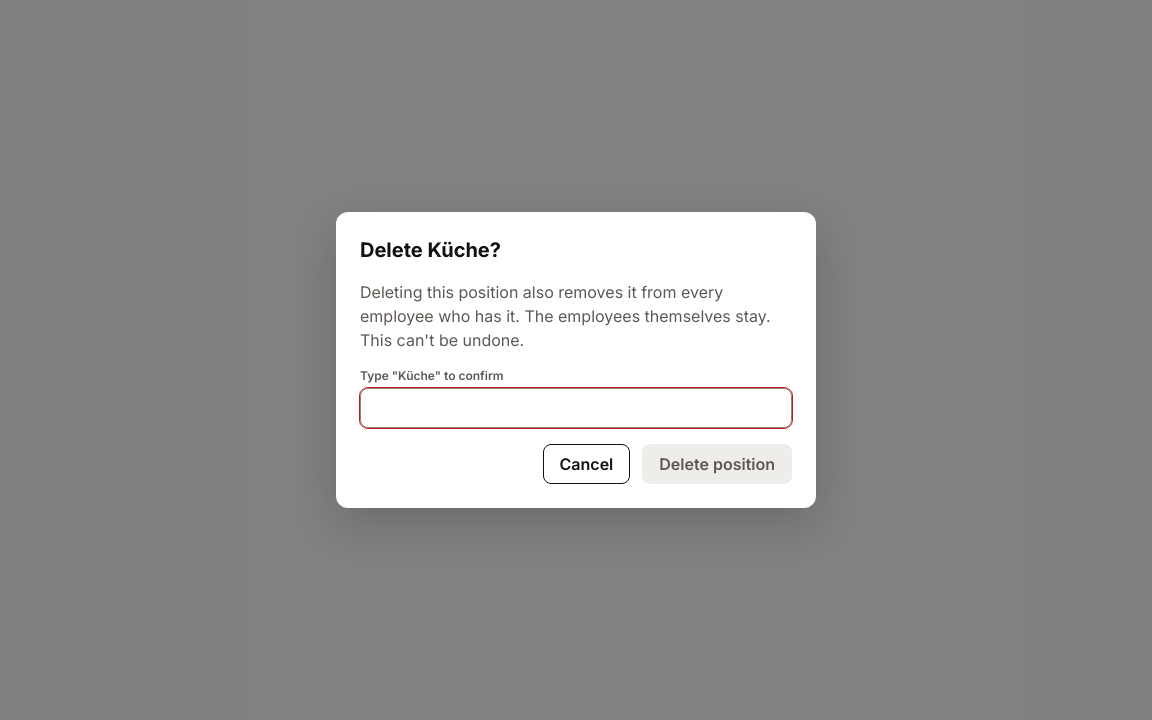
Scenario: DeletePosition › deletes the position once its name is typed, then closes
This screenshot has width=1152, height=720.
Later steps or results of the test are not shown.
Type "Küche" into the field labelled "Type \"Küche\" to confirm". click: (576, 408)
box: [360, 388, 792, 428]
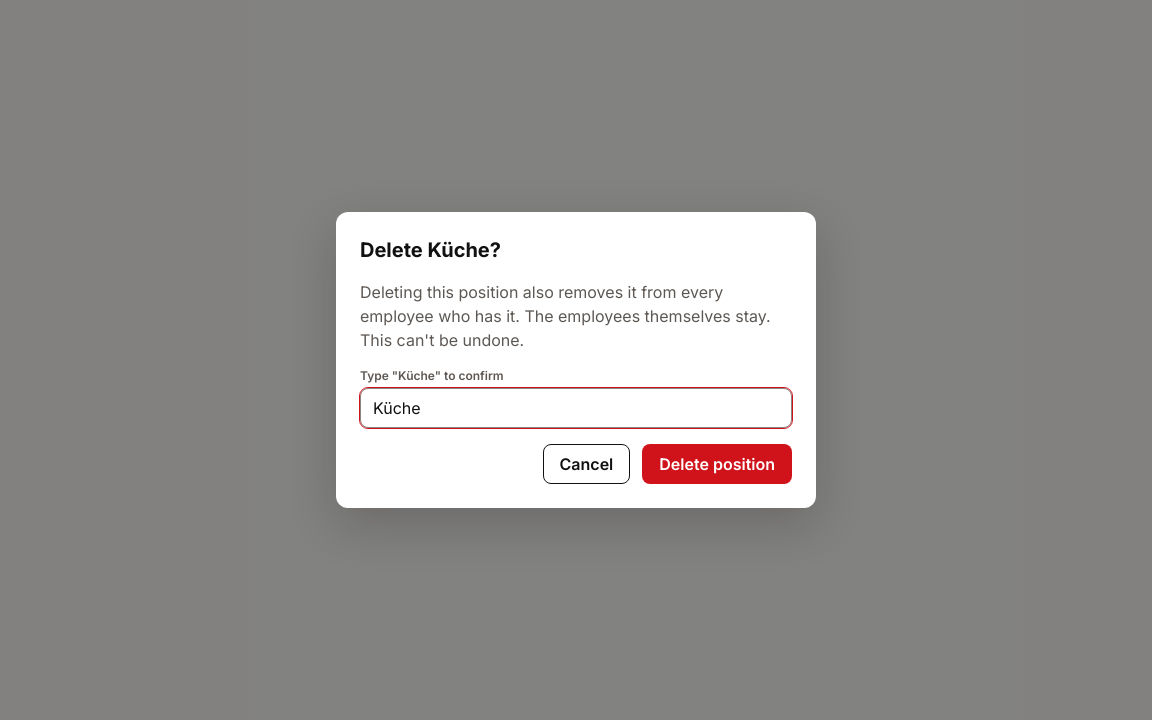
Expected: the button "Delete position" is enabled, [642, 444, 792, 484]
